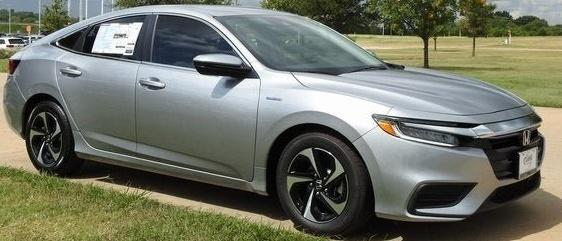Cars: (4, 6, 545, 234)
